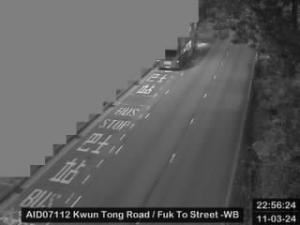bus: (154, 31, 196, 70)
